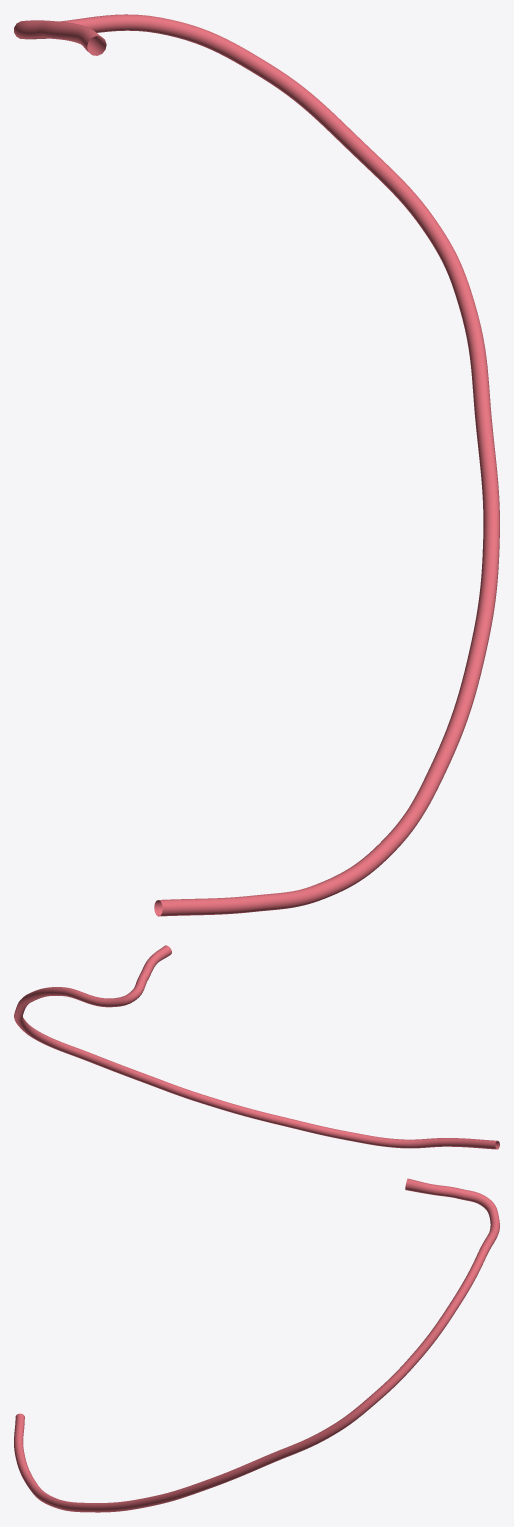
3 renders of one model, top to bottom at view 1: azimuth 30°, elevation 25°; view 2: azimuth 150°, elevation 25°; view 3: azimuth 270°, elevation 25°, orthographic. The views are drawn at different scales.
Parts seen in each view (by area): view 1: ZA_80911c72e0d0a0cb; view 2: ZA_80911c72e0d0a0cb; view 3: ZA_80911c72e0d0a0cb.
Boxes of the visible parts, bbox=[...] form: ZA_80911c72e0d0a0cb: bbox=[14, 14, 499, 916]; ZA_80911c72e0d0a0cb: bbox=[14, 945, 499, 1149]; ZA_80911c72e0d0a0cb: bbox=[14, 1178, 499, 1512].
Bounding box in the file's own units: 0.0822 × 0.0786 × 0.1024.
